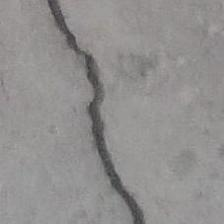Crack: (36, 0, 174, 224)
